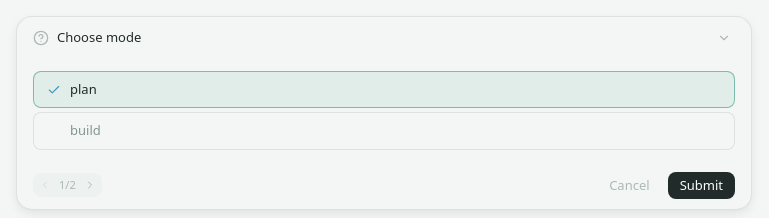
Test: ExtensionUiDialogHost › processing the current request advances to the next one
Note: 处理第一个（提交选择），队列前移后自动显示下一个
Click the button "Submit". click: (701, 185)
box: [668, 172, 735, 199]
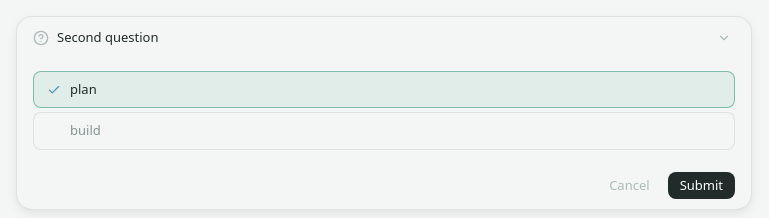
Result: the heading "Second question" is shown at [57, 28, 158, 47]
Result: the text "1/2" is gone
